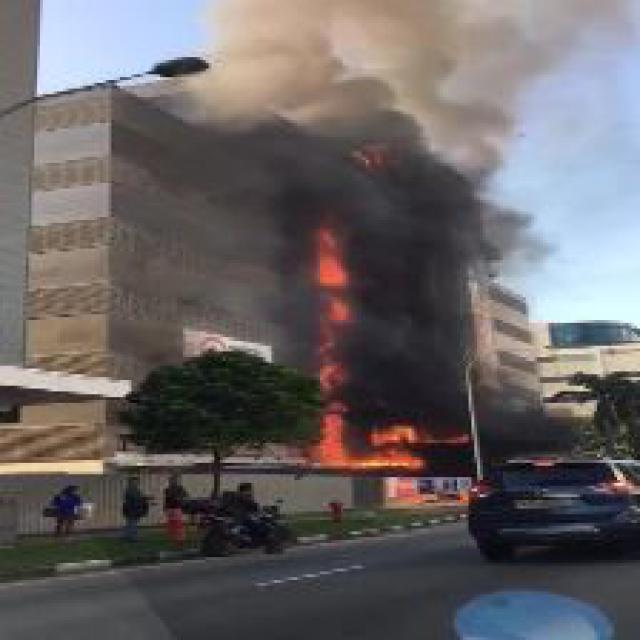fire: (303, 206, 431, 471)
